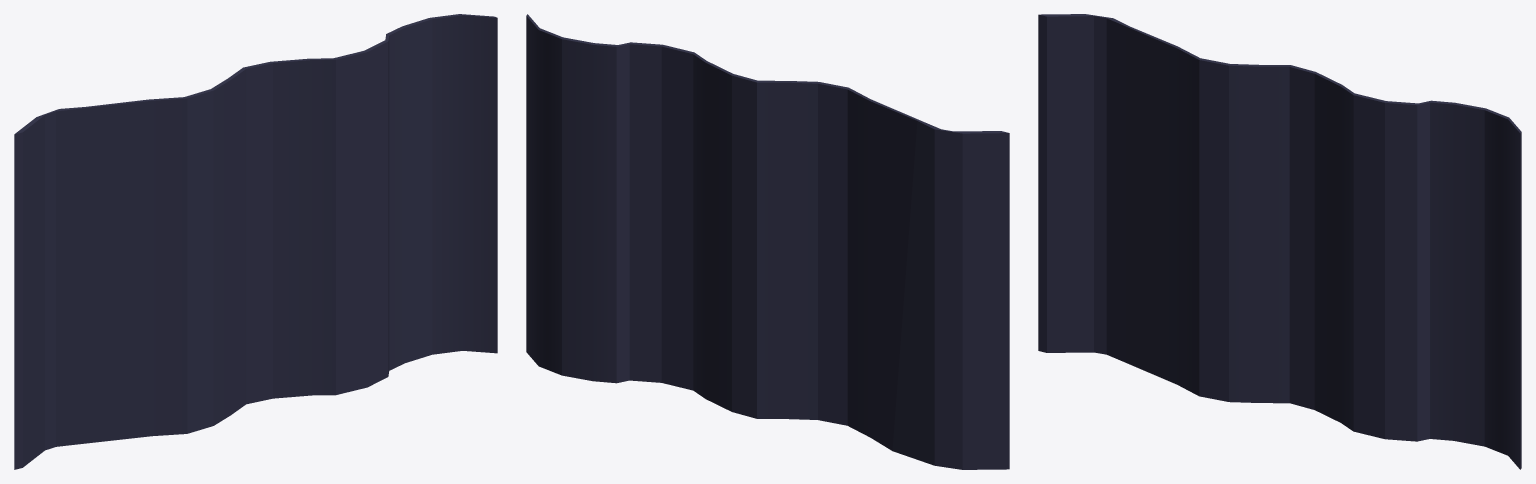
File: Rideau.fbx
3 renders of one model, left to right at view 1: azimuth 30°, elevation 25°; view 2: azimuth 150°, elevation 25°; view 3: azimuth 330°, elevation 25°, orthographic.
Parts seen in each view (by area): view 1: pCube1; view 2: pCube1; view 3: pCube1.
Boxes of the visible parts, <box> form: pCube1: <box>14,14,497,469</box>; pCube1: <box>526,14,1009,469</box>; pCube1: <box>1038,14,1521,469</box>.
Size of the model in its own units: 9.93 by 6.6 by 0.7853.
